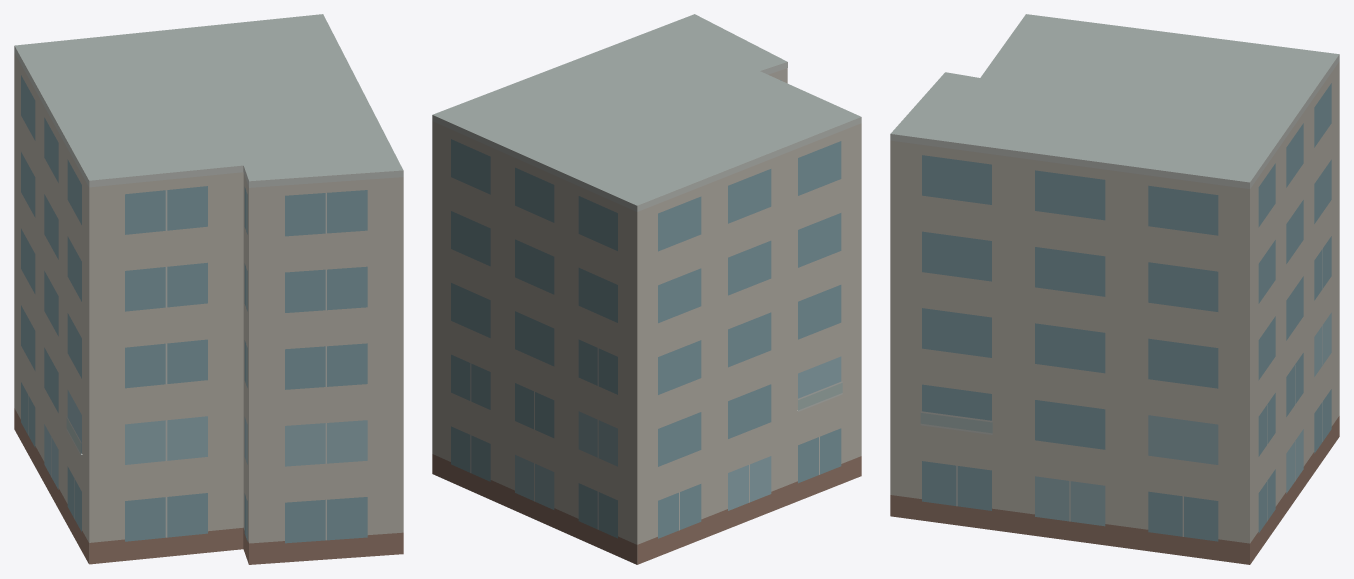
Rendered from survey-upis-32846205.glb.
The picture shows the model from 3 angles, left to right: view 1: azimuth 30°, elevation 25°; view 2: azimuth 150°, elevation 25°; view 3: azimuth 270°, elevation 25°; orthographic projection. The views are drawn at different scales.
Parts seen in each view (by area): view 1: survey-upis-32846205.tmp; view 2: survey-upis-32846205.tmp; view 3: survey-upis-32846205.tmp.
Boxes of the visible parts, x1=… form: survey-upis-32846205.tmp: x1=14, y1=14, x2=403, y2=564; survey-upis-32846205.tmp: x1=432, y1=14, x2=861, y2=564; survey-upis-32846205.tmp: x1=890, y1=14, x2=1339, y2=564.
Size of the model in its own units: 13.24 by 14 by 14.92.
